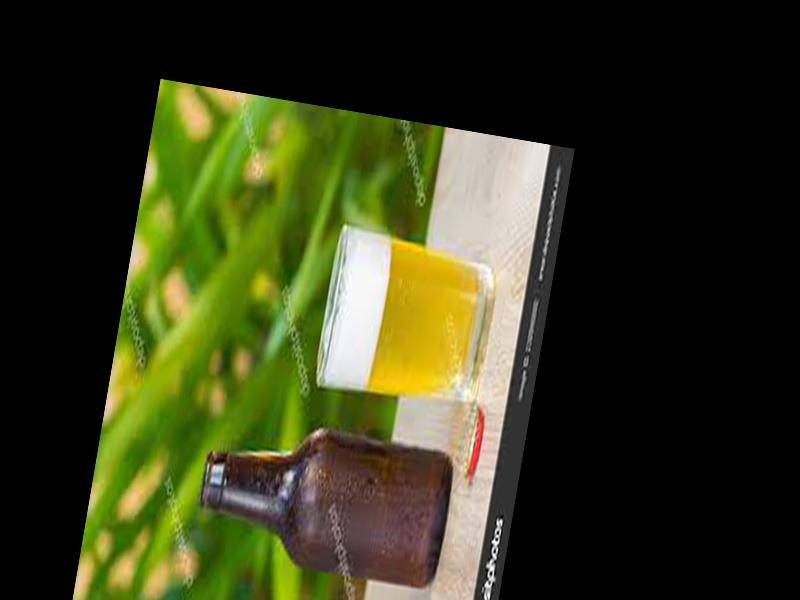Beer: (193, 413, 458, 584)
